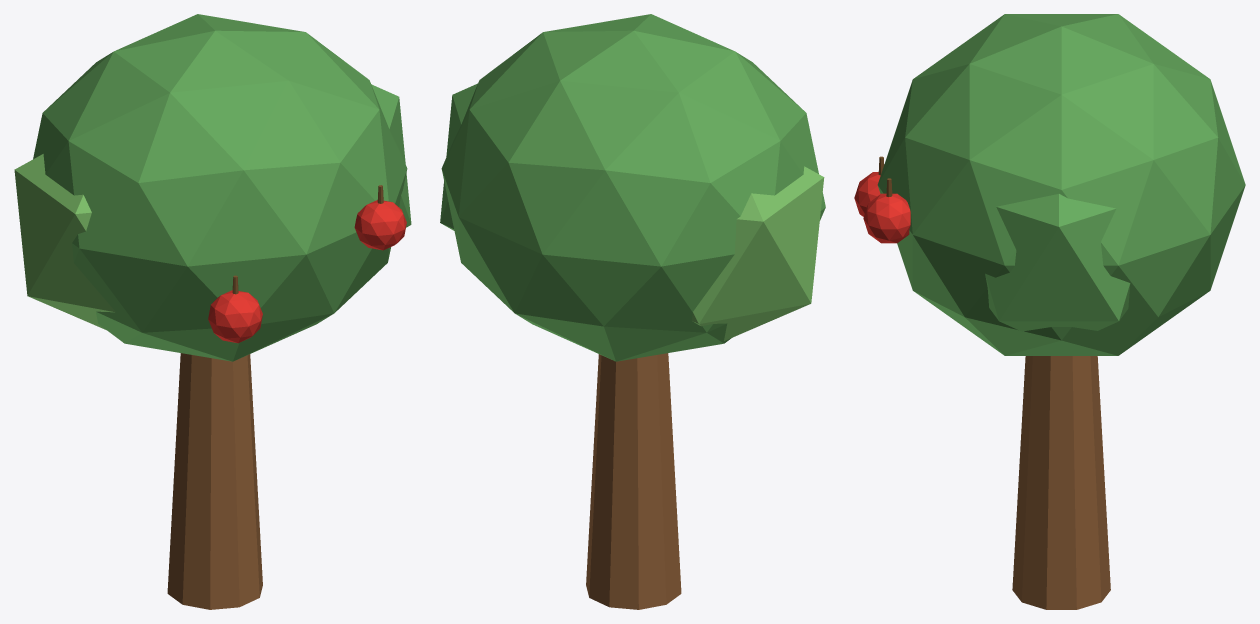
The model's file is FTF_Apple_Tree_Two_Fruit.glb.
The picture shows the model from 3 angles, left to right: view 1: azimuth 30°, elevation 25°; view 2: azimuth 150°, elevation 25°; view 3: azimuth 270°, elevation 25°; orthographic projection.
Visible parts, largest first — view 1: AppleTree_Canopy_Main, AppleTree_Trunk, AppleTree_Canopy_Left, Apple_01, Apple_02, AppleTree_Canopy_Right; view 2: AppleTree_Canopy_Main, AppleTree_Trunk, AppleTree_Canopy_Left, AppleTree_Canopy_Right; view 3: AppleTree_Canopy_Main, AppleTree_Trunk, AppleTree_Canopy_Right, Apple_02, Apple_01.
Part boxes in pixels (bbox=[...]): AppleTree_Canopy_Main: bbox=[33, 14, 407, 361]; AppleTree_Trunk: bbox=[167, 353, 262, 609]; AppleTree_Canopy_Left: bbox=[14, 154, 115, 329]; Apple_01: bbox=[208, 290, 262, 343]; Apple_02: bbox=[354, 200, 406, 250]; AppleTree_Canopy_Right: bbox=[371, 84, 411, 227]; AppleTree_Canopy_Main: bbox=[441, 14, 825, 361]; AppleTree_Trunk: bbox=[586, 353, 681, 609]; AppleTree_Canopy_Left: bbox=[692, 166, 824, 340]; AppleTree_Canopy_Right: bbox=[440, 83, 477, 230]; AppleTree_Canopy_Main: bbox=[877, 14, 1245, 355]; AppleTree_Trunk: bbox=[1012, 356, 1110, 609]; AppleTree_Canopy_Right: bbox=[985, 194, 1130, 331]; Apple_02: bbox=[863, 193, 910, 243]; Apple_01: bbox=[854, 172, 880, 216].
Bounding box in the file's own units: 3.29 × 4.8 × 3.02.
